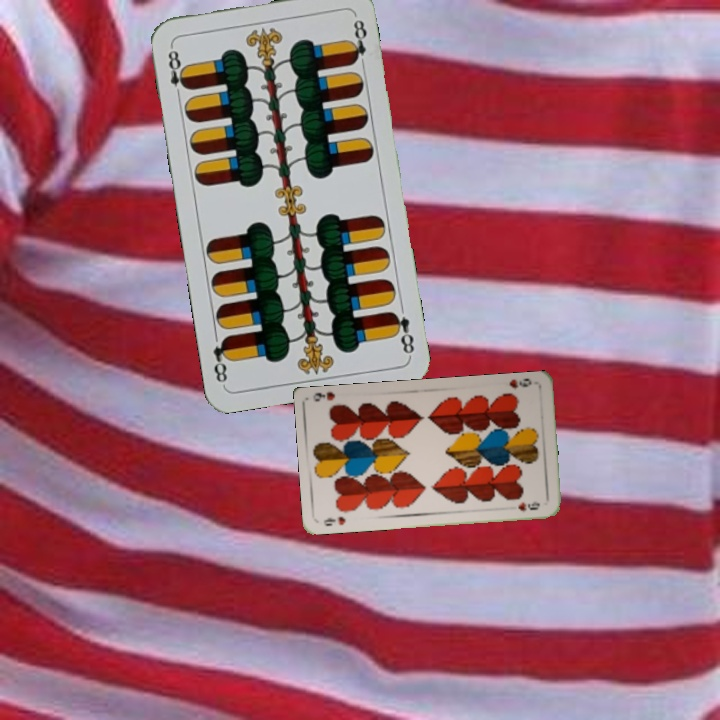E8: (164, 42, 191, 101), (387, 307, 417, 358)
H9: (505, 375, 534, 392), (320, 512, 348, 529)
